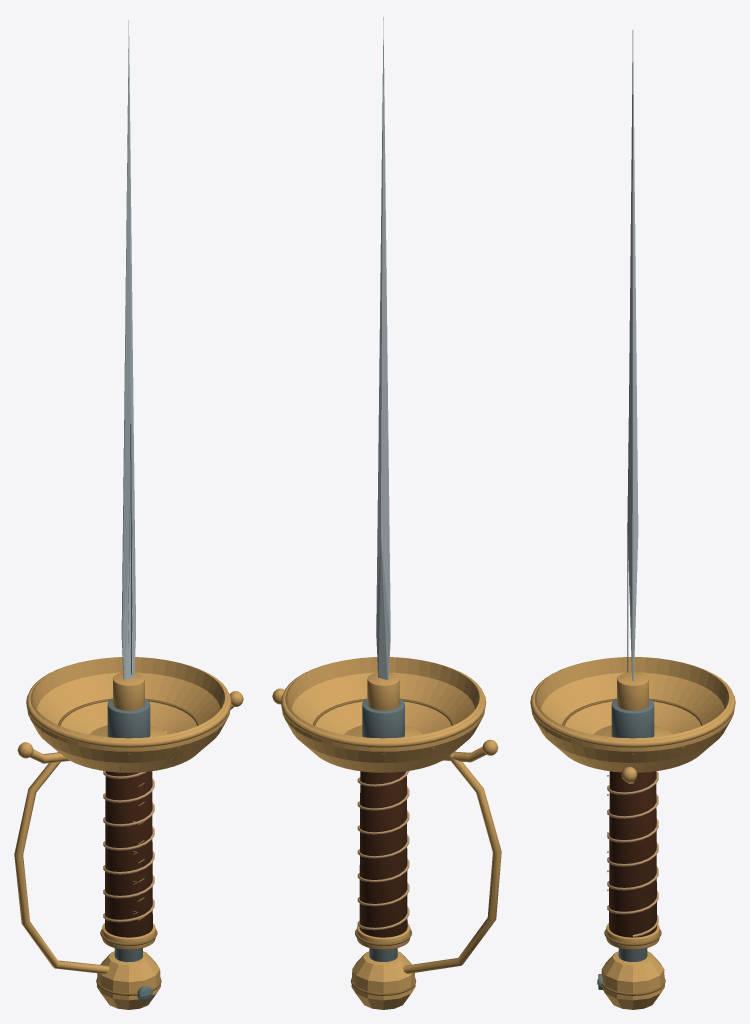
File: sword.glb
3 renders of one model, left to right at view 1: azimuth 30°, elevation 25°; view 2: azimuth 150°, elevation 25°; view 3: azimuth 270°, elevation 25°, orthographic.
Visible parts, largest first — view 1: Render_sword; view 2: Render_sword; view 3: Render_sword.
Boxes of the visible parts, x1,y1,x2,y2 form: Render_sword: [14, 20, 243, 1009]; Render_sword: [272, 17, 501, 1009]; Render_sword: [530, 30, 735, 1009].
Size of the model in its own units: 0.2944 by 1.23 by 0.2304.
Materials: 6 (6 with a texture image).
